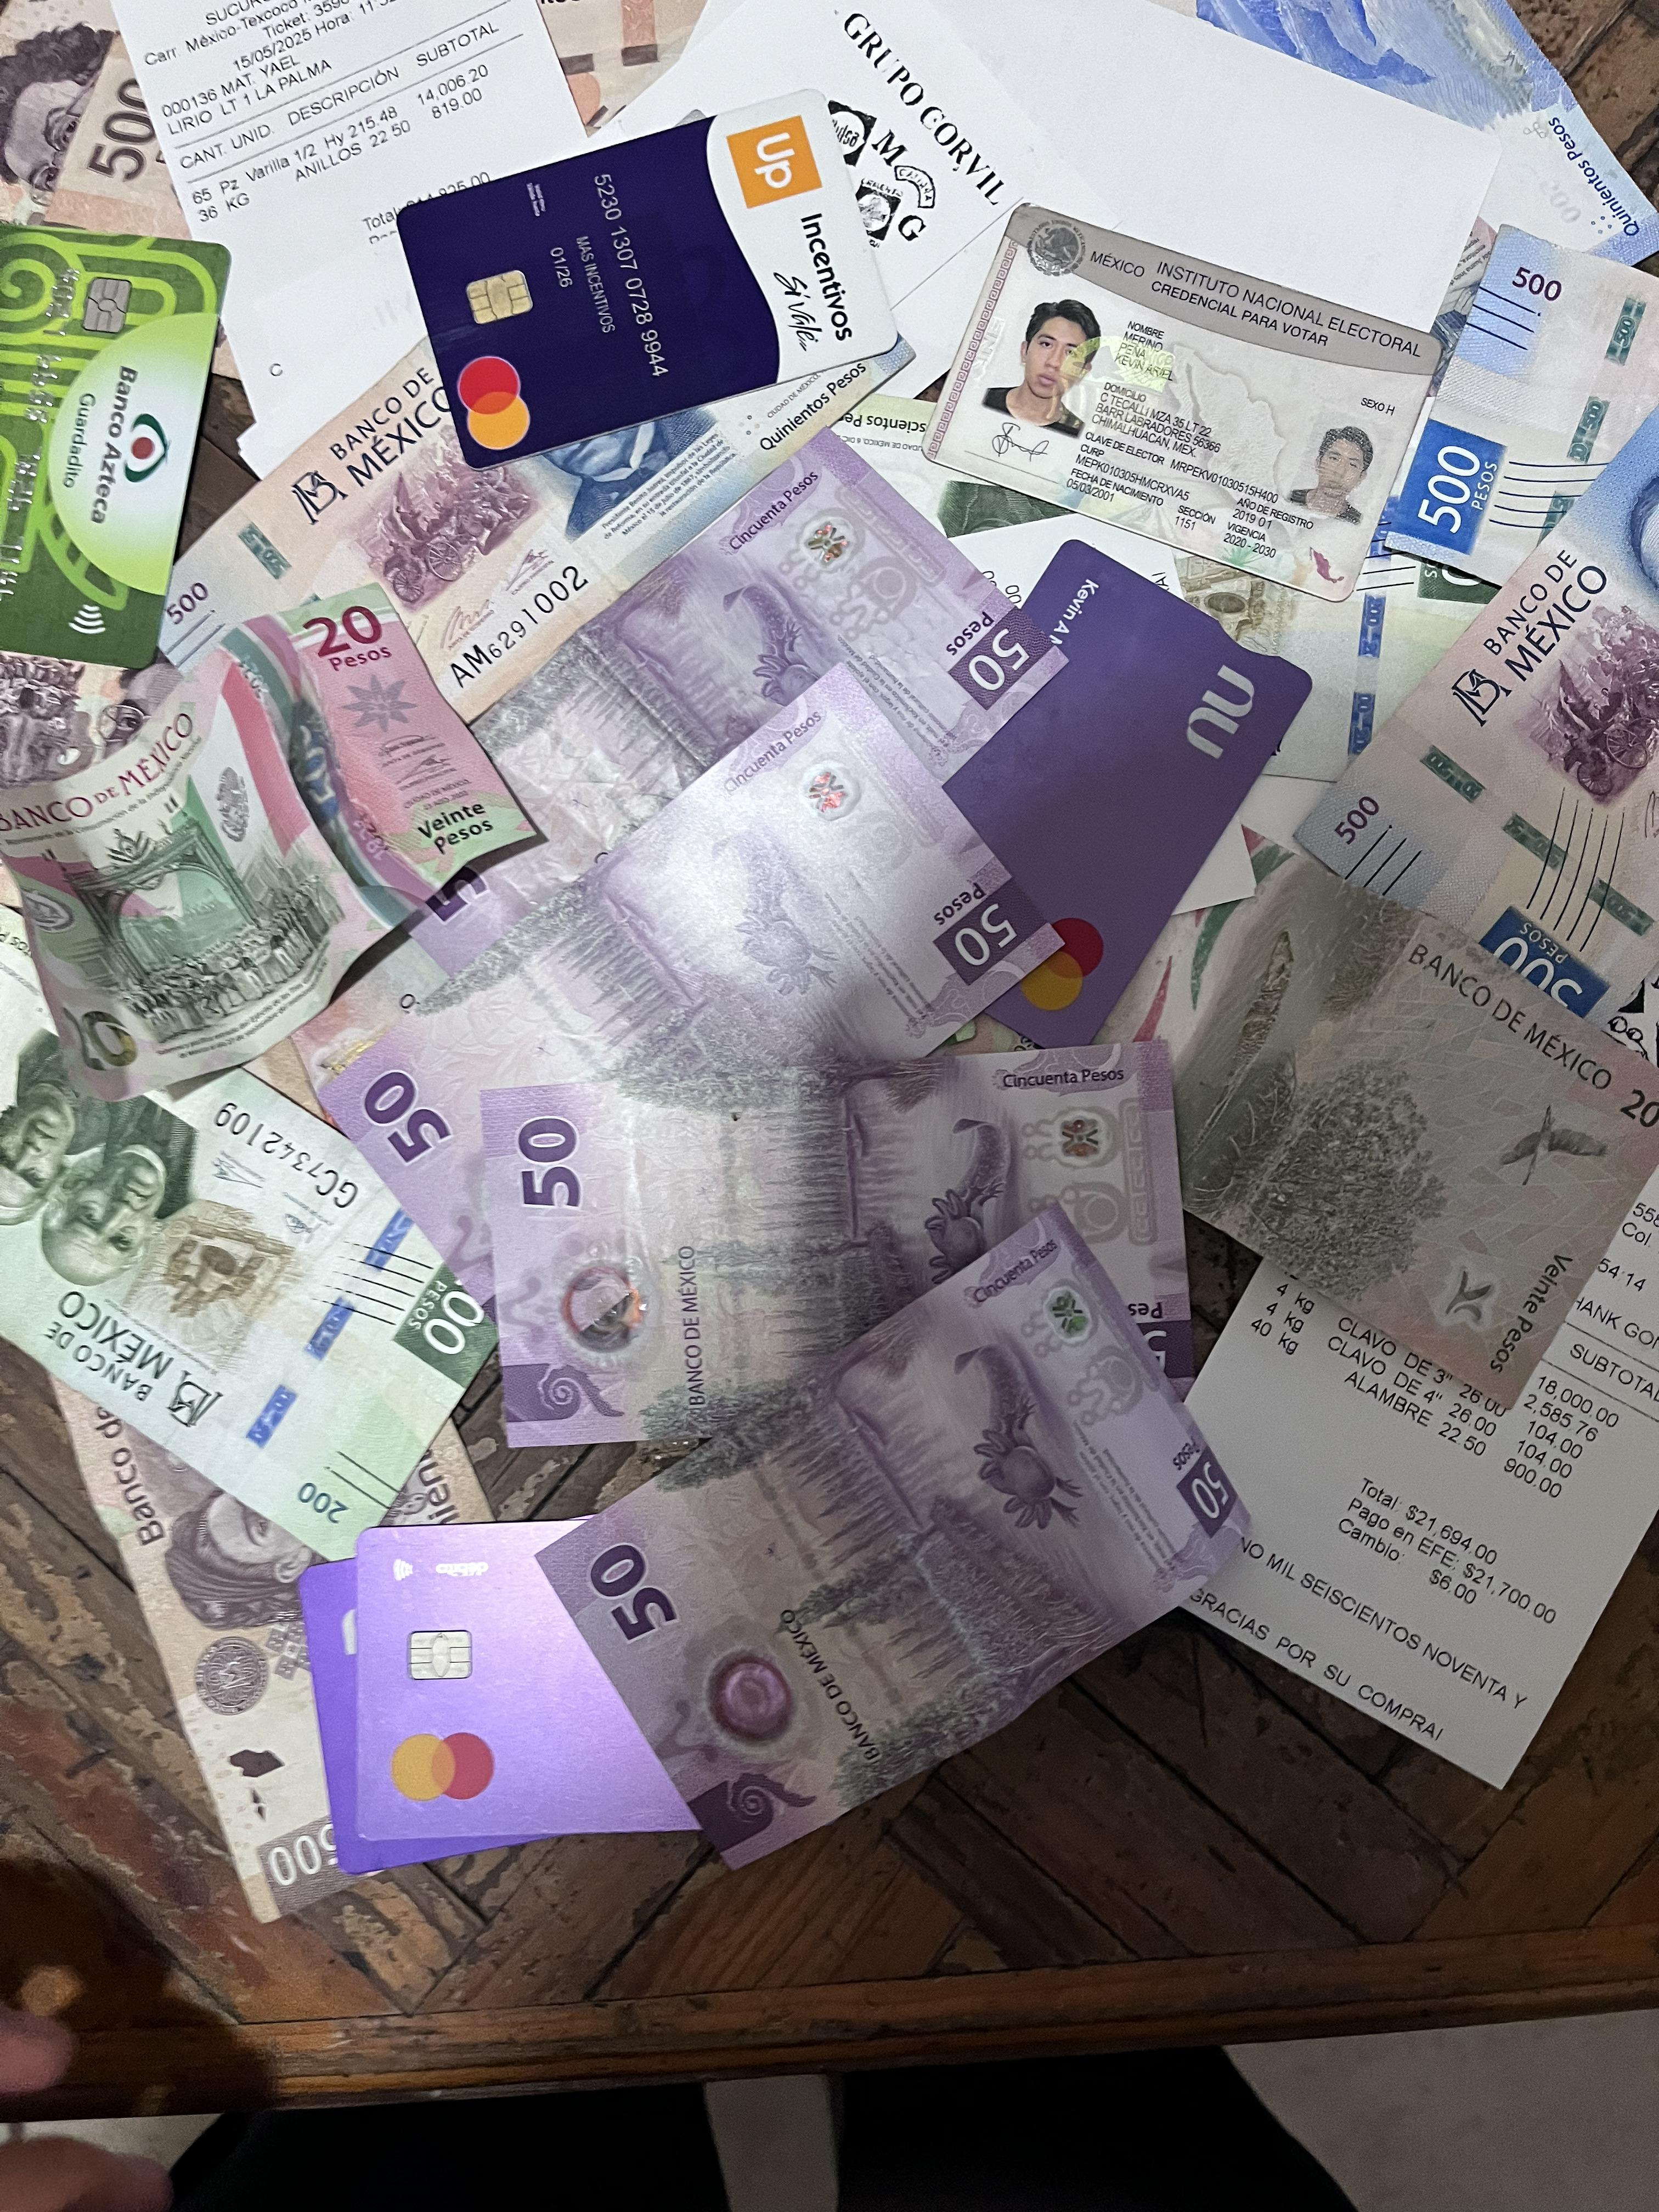20: (1098, 810, 1659, 1414), (0, 580, 514, 1118)
200: (0, 894, 525, 1554)
50: (530, 1202, 1283, 1895), (310, 665, 1079, 1329), (380, 420, 1068, 1008), (439, 1033, 1246, 1425)
500: (26, 1264, 547, 1944), (0, 5, 260, 261)
500 nuevo: (138, 204, 908, 775), (1270, 381, 1659, 1052), (1187, 0, 1649, 341), (1368, 221, 1659, 594)
